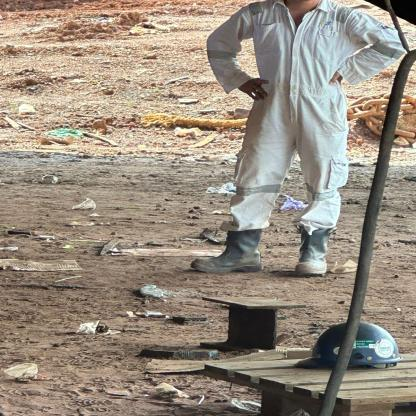bota: (191, 224, 266, 278), (292, 225, 341, 280)
